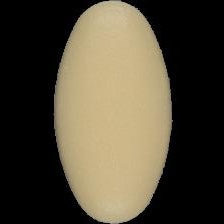63187-005: (0, 0, 224, 224)
